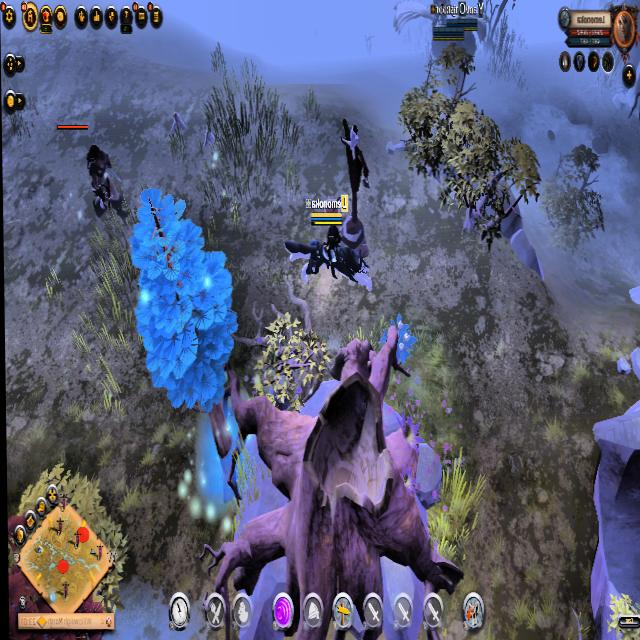wood tier 4: (127, 183, 237, 412)
